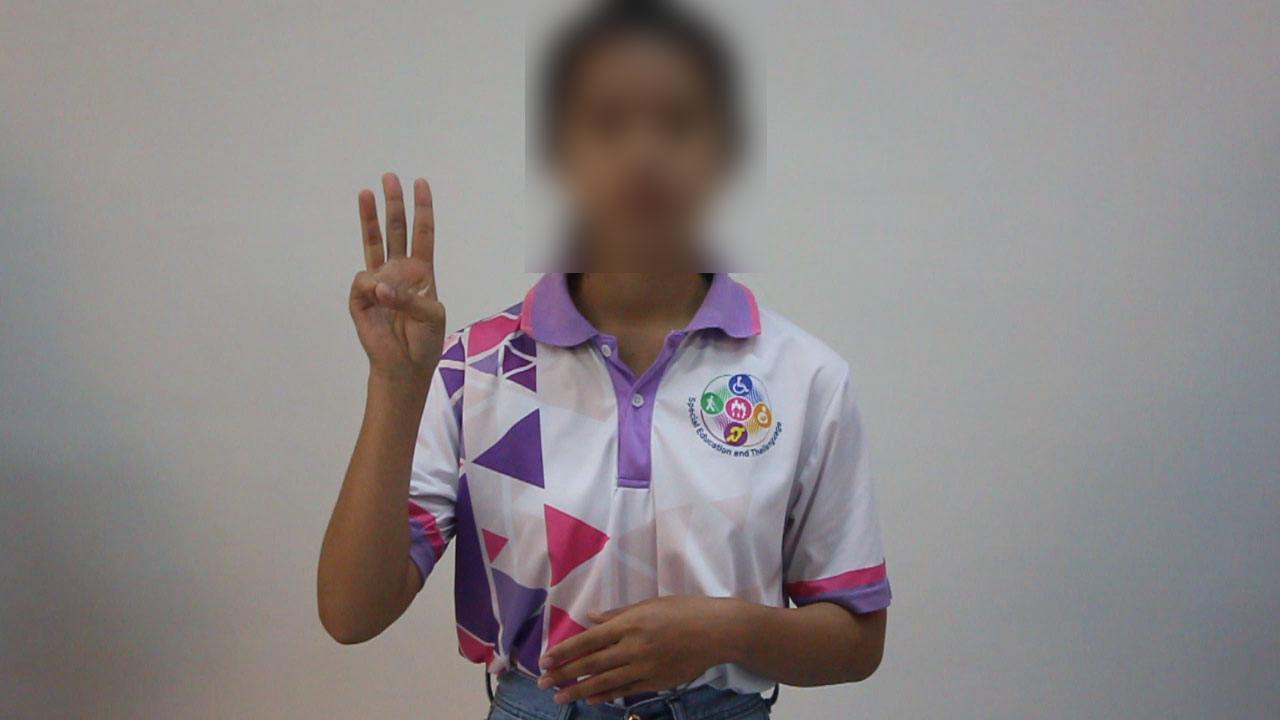wor: (341, 164, 455, 391)
